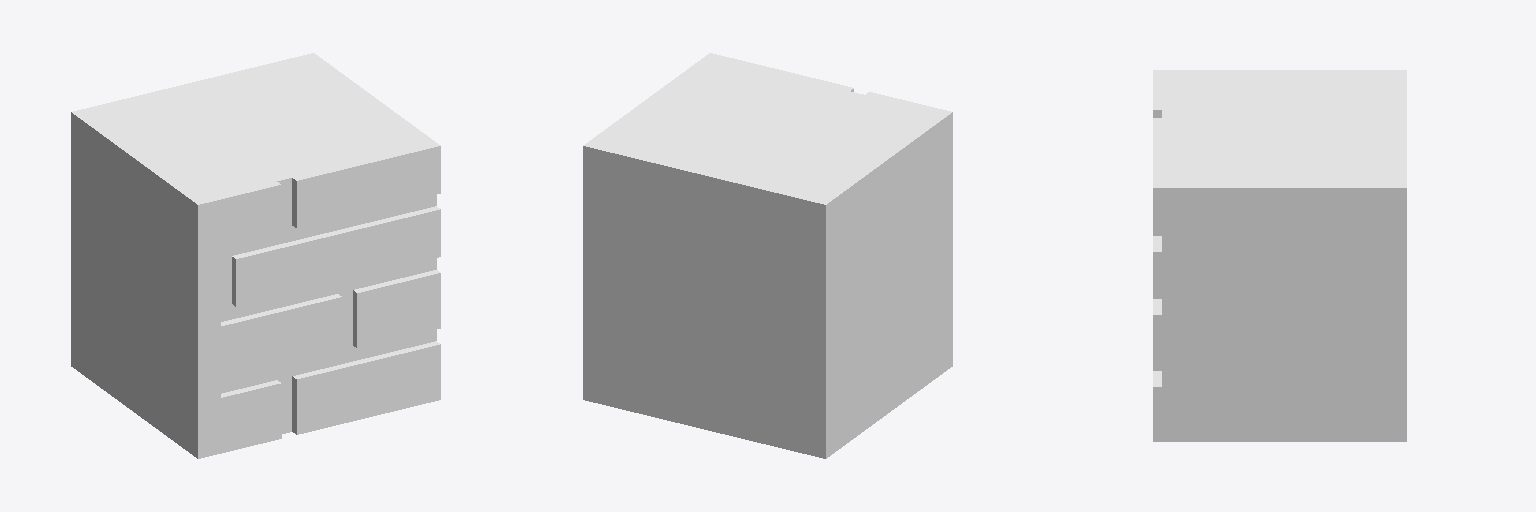
File: stone_bricks-5.obj
3 views of the same model, side by side, from view 1: azimuth 30°, elevation 25°; view 2: azimuth 150°, elevation 25°; view 3: azimuth 270°, elevation 25° (orthographic).
Visible parts, largest first — view 1: object 1; view 2: object 1; view 3: object 1.
Part boxes in pixels (x1,y1,x2,y2): object 1: (71, 53, 440, 458); object 1: (583, 53, 952, 458); object 1: (1153, 70, 1406, 441).
Bounding box in the file's own units: 3.2 × 3.2 × 2.9.